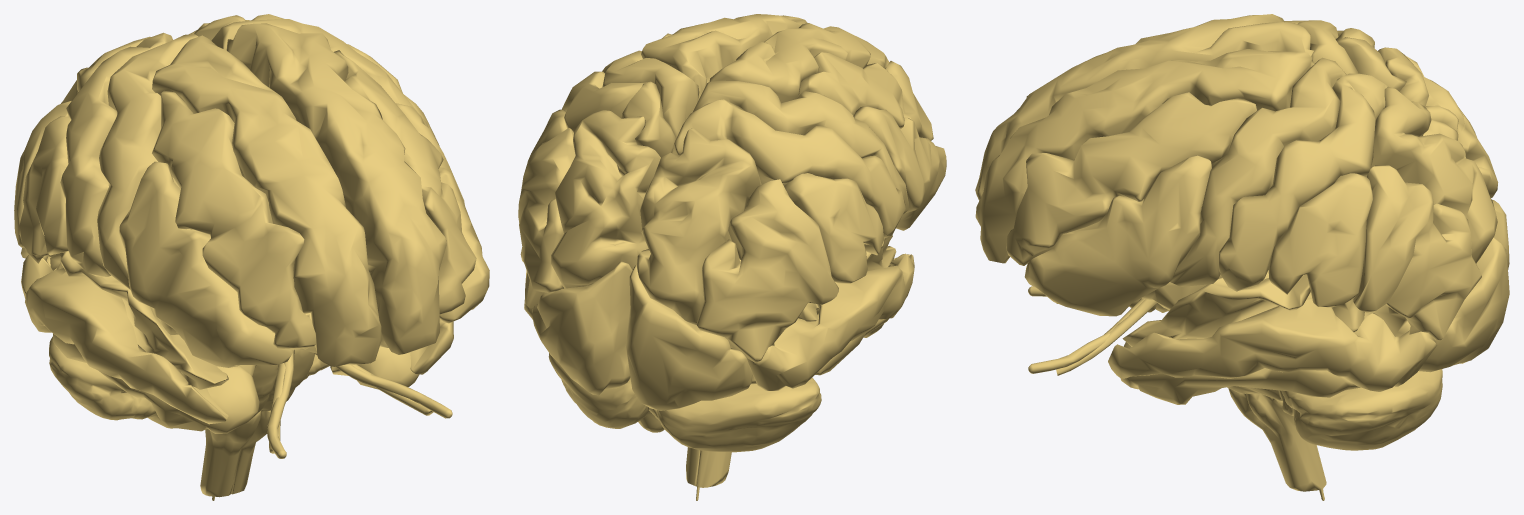
Rendered from nervous.glb.
3 views of the same model, side by side, from view 1: azimuth 30°, elevation 25°; view 2: azimuth 150°, elevation 25°; view 3: azimuth 270°, elevation 25° (orthographic). The views are drawn at different scales.
Parts seen in each view (by area): view 1: cerebral-hemisphere-r, cerebral-hemisphere-l, brainstem, cerebellum, optic-nerve-l, optic-nerve-r; view 2: cerebral-hemisphere-r, cerebral-hemisphere-l, cerebellum, brainstem; view 3: cerebral-hemisphere-l, cerebral-hemisphere-r, cerebellum, brainstem, optic-nerve-l.
Part boxes in pixels (x1=…): cerebral-hemisphere-r: x1=14, y1=32, x2=381, y2=433; cerebral-hemisphere-l: x1=188, y1=14, x2=489, y2=389; brainstem: x1=200, y1=349, x2=314, y2=497; cerebellum: x1=49, y1=336, x2=329, y2=428; optic-nerve-l: x1=335, y1=364, x2=452, y2=418; optic-nerve-r: x1=267, y1=349, x2=294, y2=458; cerebral-hemisphere-r: x1=625, y1=23, x2=946, y2=410; cerebral-hemisphere-l: x1=518, y1=14, x2=807, y2=395; cerebellum: x1=548, y1=353, x2=821, y2=452; brainstem: x1=686, y1=447, x2=731, y2=487; cerebral-hemisphere-l: x1=975, y1=49, x2=1509, y2=404; cerebral-hemisphere-r: x1=975, y1=14, x2=1509, y2=312; cerebellum: x1=1279, y1=369, x2=1442, y2=450; brainstem: x1=1227, y1=386, x2=1326, y2=491; optic-nerve-l: x1=1028, y1=298, x2=1157, y2=375.
Bounding box in the file's own units: 0.1388 × 0.1719 × 0.1798.
